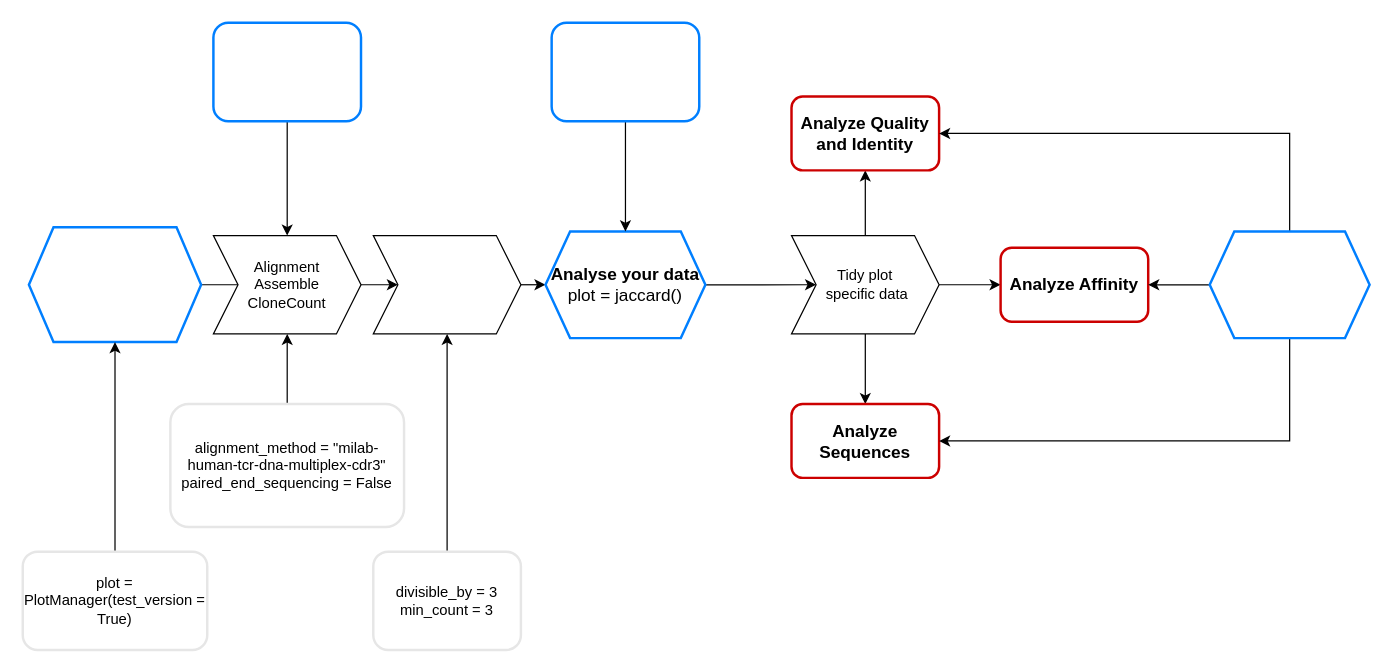
This 1391x672 diagram has some shape labels left out. The centre of each missing label's shape, as x and y in pixels:
"Call Plot Manager plot = PlotManager()" goes at [114,284].
"Customize Plot using plot.plot_styler()" goes at [1289,284].
"Input Demultiplexed FastQ Files" goes at [287,71].
"Input Plot specific help(plot.jaccard) prints them" goes at [625,71].
"Trim: Frameshifts low clone counts" goes at [446,284].
